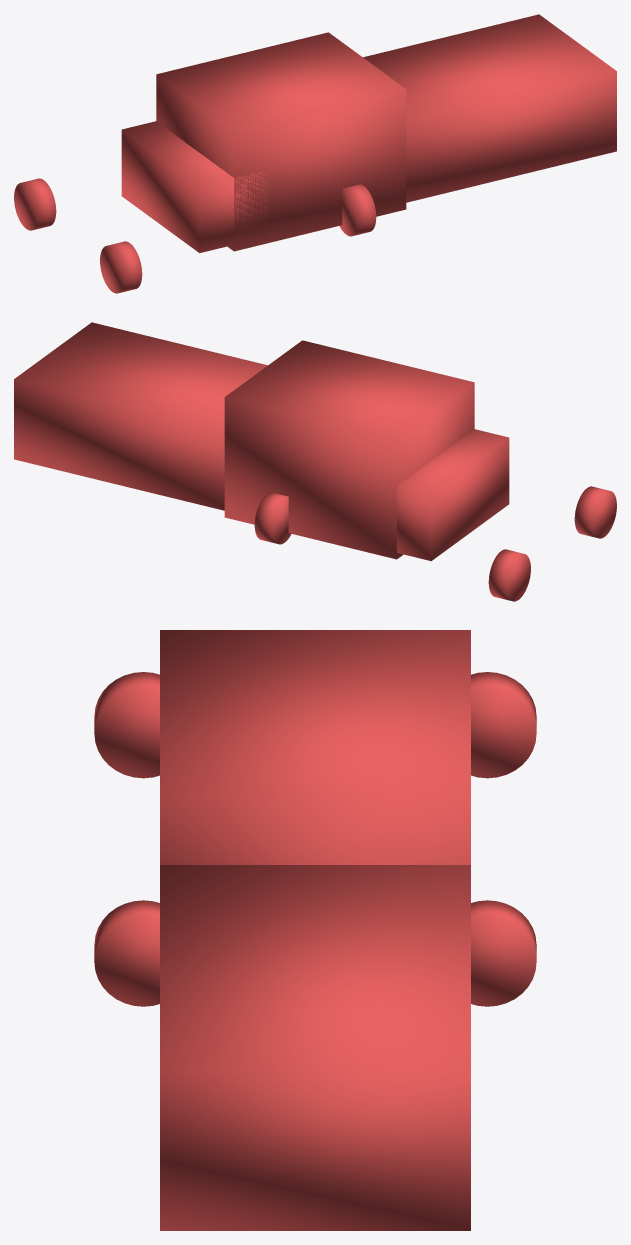
The model's file is Toyota_Tacoma_2019_Barcelona_Red.glb.
3 renders of one model, top to bottom at view 1: azimuth 30°, elevation 25°; view 2: azimuth 150°, elevation 25°; view 3: azimuth 270°, elevation 25°, orthographic. The views are drawn at different scales.
Visible parts, largest first — view 1: Toyota_Tacoma; view 2: Toyota_Tacoma; view 3: Toyota_Tacoma.
Part boxes in pixels (<box>): Toyota_Tacoma: <box>14,14,616,293</box>; Toyota_Tacoma: <box>14,322,616,601</box>; Toyota_Tacoma: <box>94,630,536,1230</box>.
Size of the model in its own units: 7.18 by 1.71 by 2.7.
